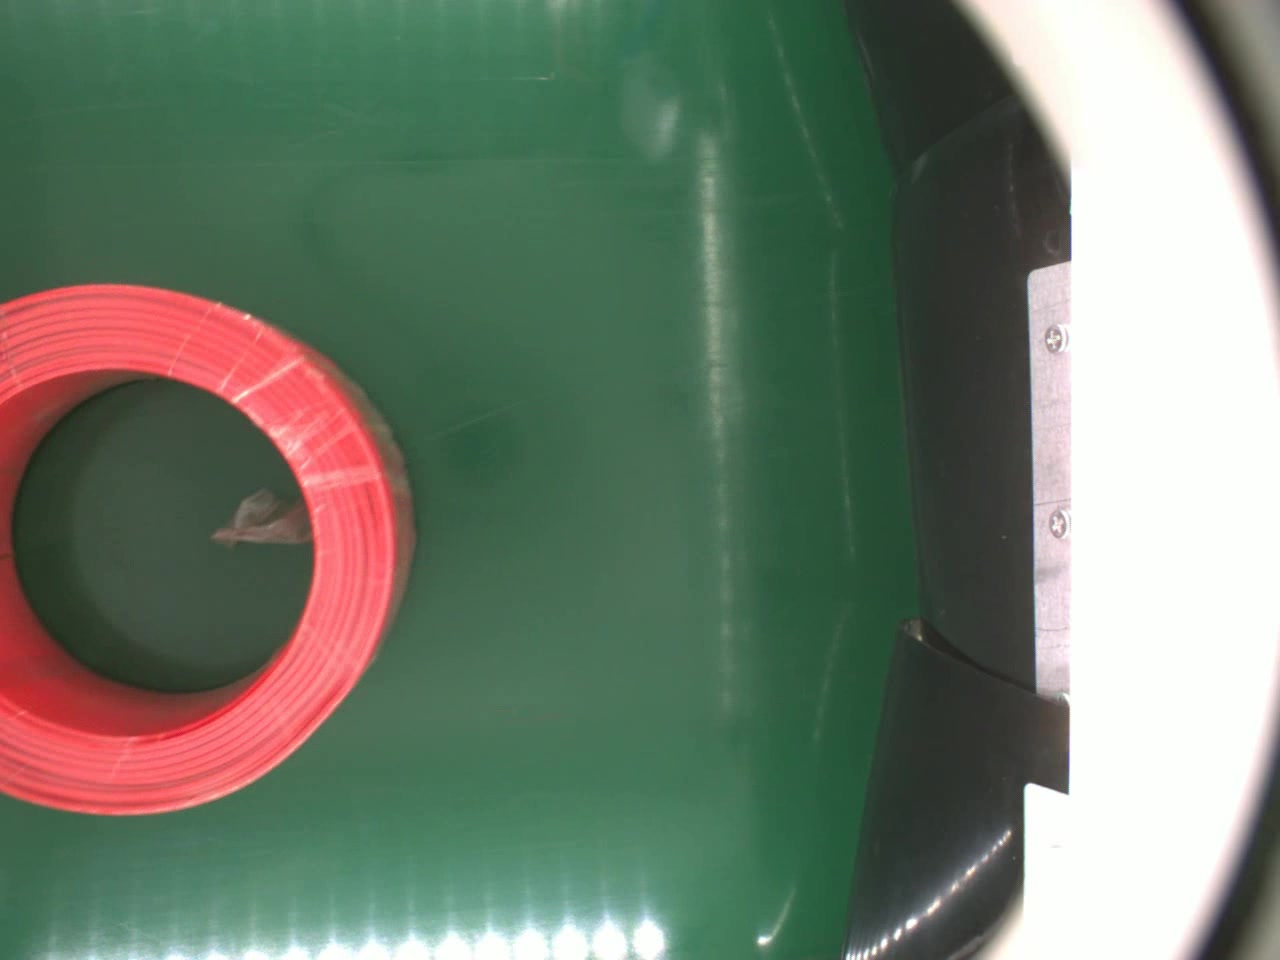red: (0, 277, 418, 820)
